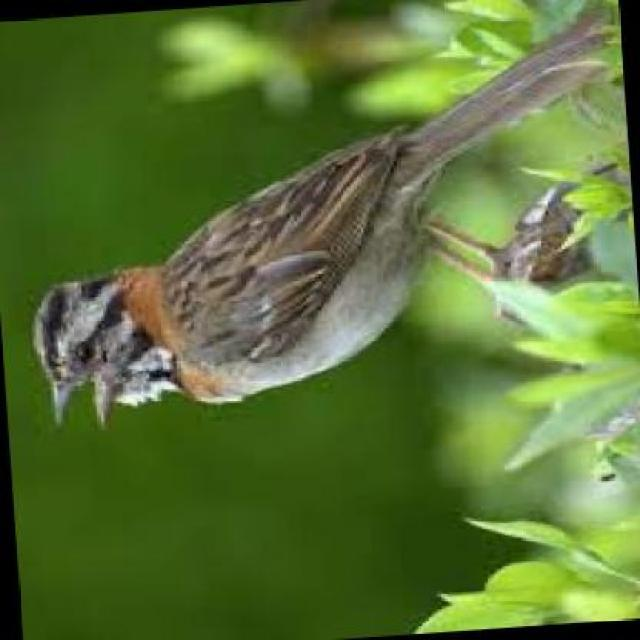Bird: (33, 22, 603, 426)
